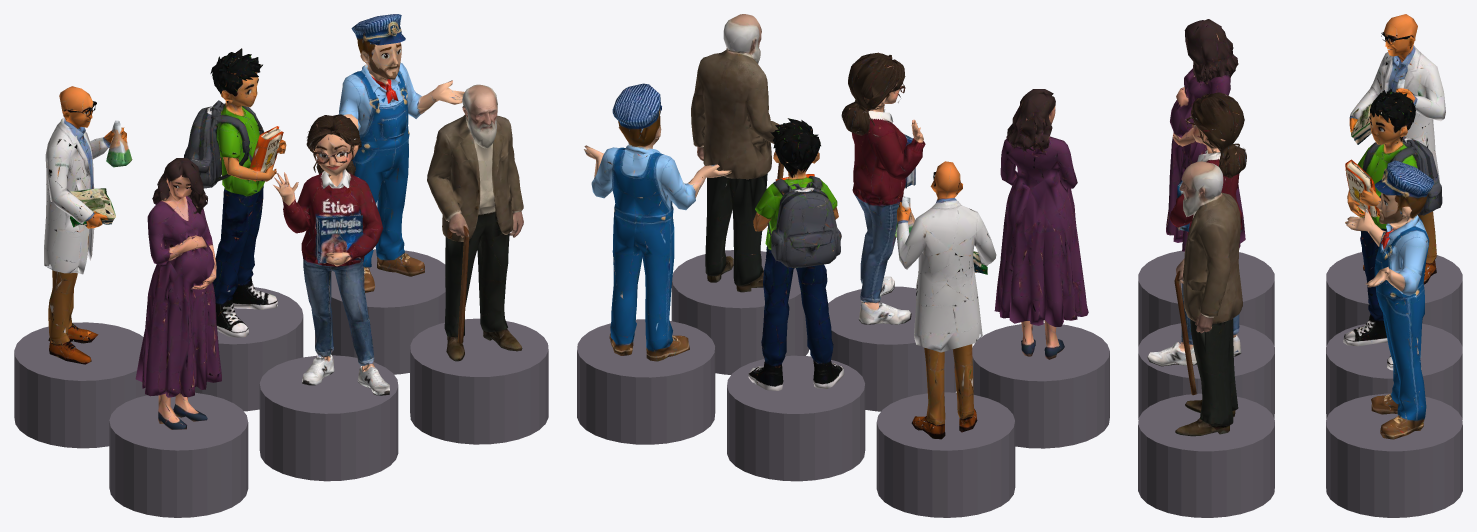
File: CERA.glb
3 views of the same model, side by side, from view 1: azimuth 30°, elevation 25°; view 2: azimuth 150°, elevation 25°; view 3: azimuth 270°, elevation 25° (orthographic).
Visible parts, largest first — view 1: mesh_node, figura_gestante, figura_colega, pedestal_gestante, pedestal_colega, pedestal_idoso, figura_estudante, figura_operador, figura_cientista, pedestal_cientista, pedestal_operador, pedestal_estudante; view 2: figura_gestante, figura_operador, mesh_node, figura_estudante, figura_cientista, pedestal_cientista, pedestal_estudante, pedestal_operador, pedestal_gestante, figura_colega, pedestal_idoso, pedestal_colega; view 3: pedestal_idoso, mesh_node, pedestal_operador, figura_operador, figura_estudante, pedestal_estudante, figura_cientista, figura_gestante, pedestal_colega, figura_colega, pedestal_gestante, pedestal_cientista.
Boxes of the visible parts, x1,y1,x2,y2 form: mesh_node: [427, 84, 523, 361]; figura_gestante: [135, 158, 221, 429]; figura_colega: [273, 114, 389, 395]; pedestal_gestante: [109, 392, 248, 517]; pedestal_colega: [259, 355, 398, 481]; pedestal_idoso: [410, 318, 548, 444]; figura_estudante: [184, 48, 286, 337]; figura_operador: [338, 14, 464, 292]; figura_cientista: [44, 86, 132, 364]; pedestal_cientista: [14, 322, 147, 448]; pedestal_operador: [315, 249, 445, 374]; pedestal_estudante: [195, 287, 303, 411]; figura_gestante: [994, 89, 1088, 359]; figura_operador: [584, 83, 731, 361]; mesh_node: [691, 14, 783, 292]; figura_estudante: [748, 118, 844, 390]; figura_cientista: [895, 161, 996, 439]; pedestal_cientista: [876, 392, 1015, 517]; pedestal_estudante: [727, 355, 865, 481]; pedestal_operador: [577, 319, 715, 444]; pedestal_gestante: [972, 323, 1109, 448]; figura_colega: [841, 52, 925, 324]; pedestal_idoso: [671, 250, 809, 374]; pedestal_colega: [828, 286, 956, 411]; pedestal_idoso: [1138, 393, 1274, 517]; mesh_node: [1174, 161, 1242, 436]; pedestal_operador: [1326, 393, 1462, 517]; figura_operador: [1345, 160, 1434, 439]; figura_estudante: [1343, 89, 1442, 370]; pedestal_estudante: [1326, 323, 1462, 419]; figura_cientista: [1349, 14, 1445, 284]; figura_gestante: [1166, 19, 1245, 251]; pedestal_colega: [1138, 323, 1274, 419]; figura_colega: [1147, 92, 1246, 366]; pedestal_gestante: [1138, 250, 1274, 346]; pedestal_cientista: [1326, 252, 1462, 346].
Bounding box in the file's own units: 3.02 × 2.2 × 1.99.
7 materials, 6 textured.
